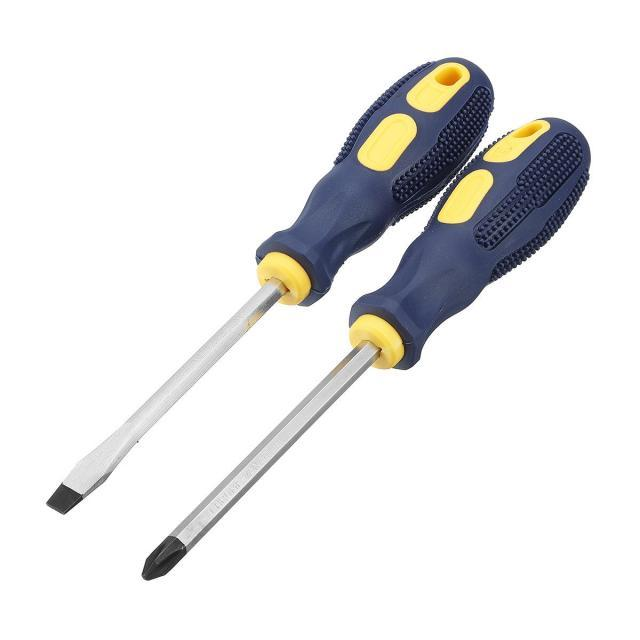screwdriver: (135, 112, 602, 590), (44, 53, 496, 520)
